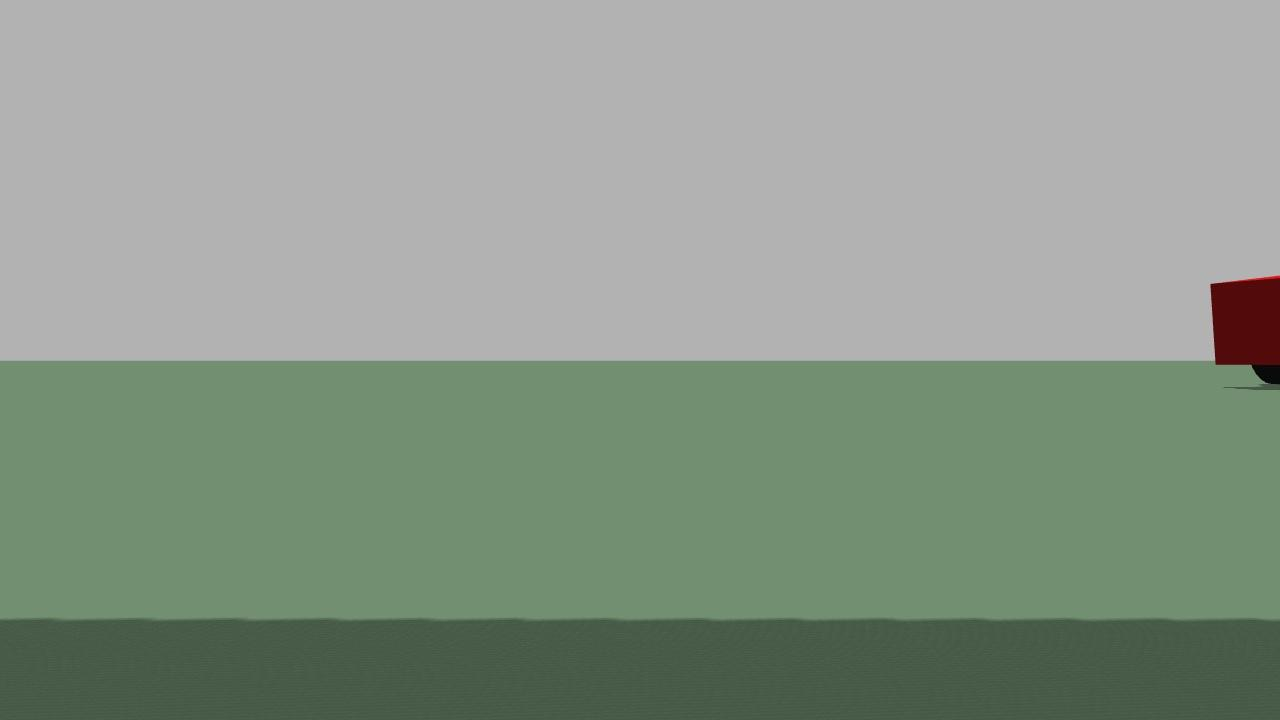ground_vehicle: (1198, 249, 1280, 395)
